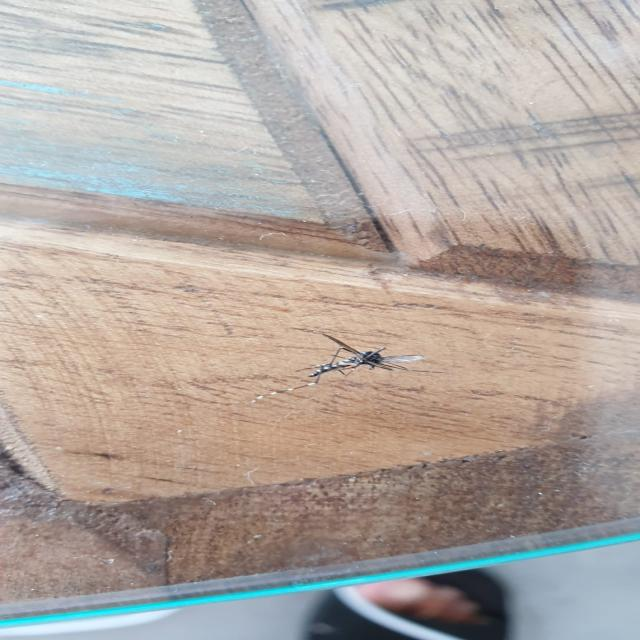albopictus: (259, 327, 446, 398)
